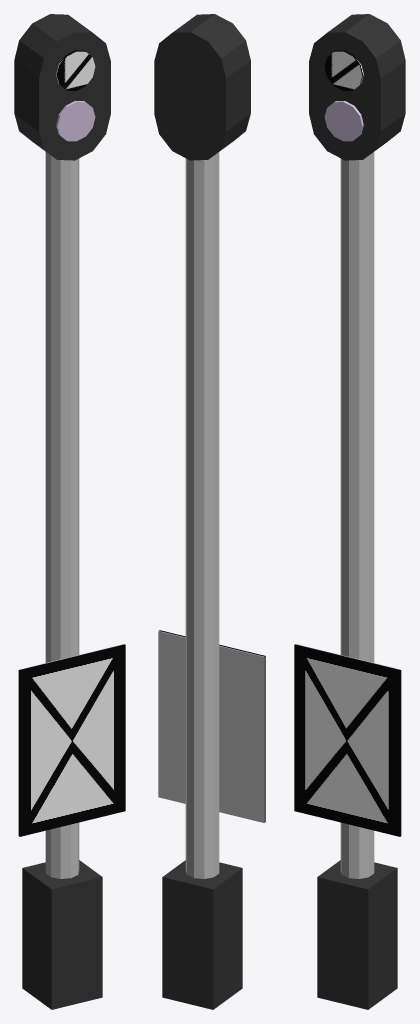
Rendered from SemaforTarczaOstrzegawcza.fbx.
The picture shows the model from 3 angles, left to right: view 1: azimuth 30°, elevation 25°; view 2: azimuth 150°, elevation 25°; view 3: azimuth 330°, elevation 25°; orthographic projection.
Visible parts, largest first — view 1: Pole, Light2, Light1; view 2: Pole; view 3: Pole, Light2, Light1.
Part boxes in pixels (<box>): Pole: <box>14,14,125,1009</box>; Light2: <box>56,101,95,141</box>; Light1: <box>56,50,95,90</box>; Pole: <box>154,14,265,1009</box>; Pole: <box>294,14,405,1009</box>; Light2: <box>324,101,363,141</box>; Light1: <box>324,50,363,90</box>.
Bounding box in the file's own units: 66.67 × 584 × 32.05.
Materials: 4 (1 with a texture image).
